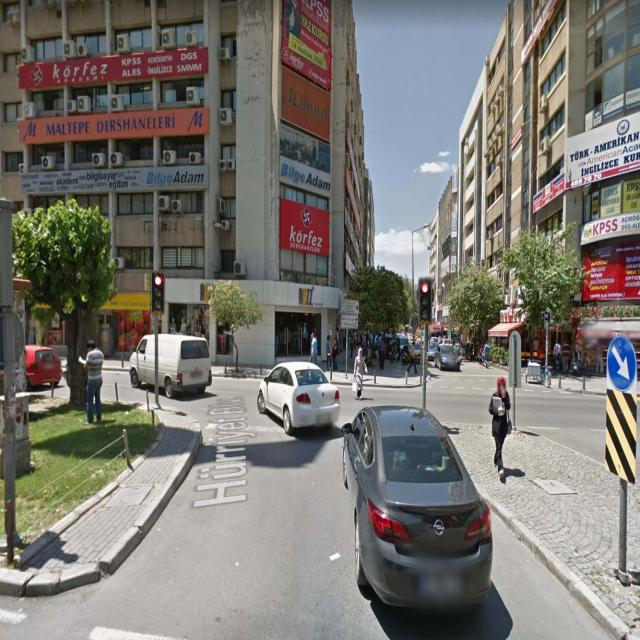kirmizi: (419, 277, 432, 323), (152, 270, 164, 308)
